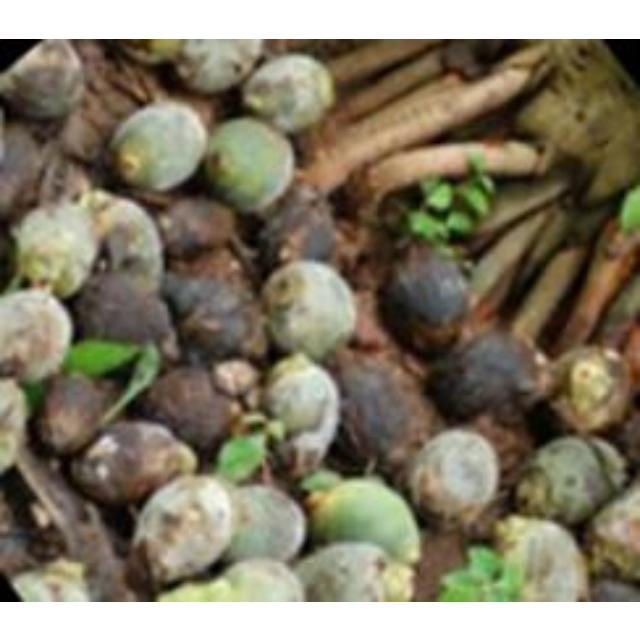damaged: (330, 352, 432, 473), (132, 473, 238, 587), (428, 329, 548, 425), (70, 416, 194, 506), (379, 242, 475, 352), (259, 351, 341, 479), (306, 475, 422, 565), (513, 434, 623, 526), (406, 426, 502, 530), (140, 364, 244, 456), (262, 258, 356, 358), (166, 274, 268, 364), (108, 101, 206, 193), (75, 268, 177, 356), (202, 116, 294, 212), (10, 200, 100, 298), (492, 516, 586, 602), (545, 344, 631, 434), (219, 482, 309, 566), (86, 193, 164, 289), (34, 369, 118, 457), (242, 53, 334, 133), (1, 38, 87, 122), (1, 287, 74, 385), (292, 540, 410, 600), (258, 185, 339, 268), (584, 474, 640, 582), (457, 413, 531, 489), (160, 196, 240, 264), (172, 38, 264, 96), (0, 124, 48, 220), (10, 556, 99, 600), (160, 271, 224, 319), (0, 376, 30, 474)
